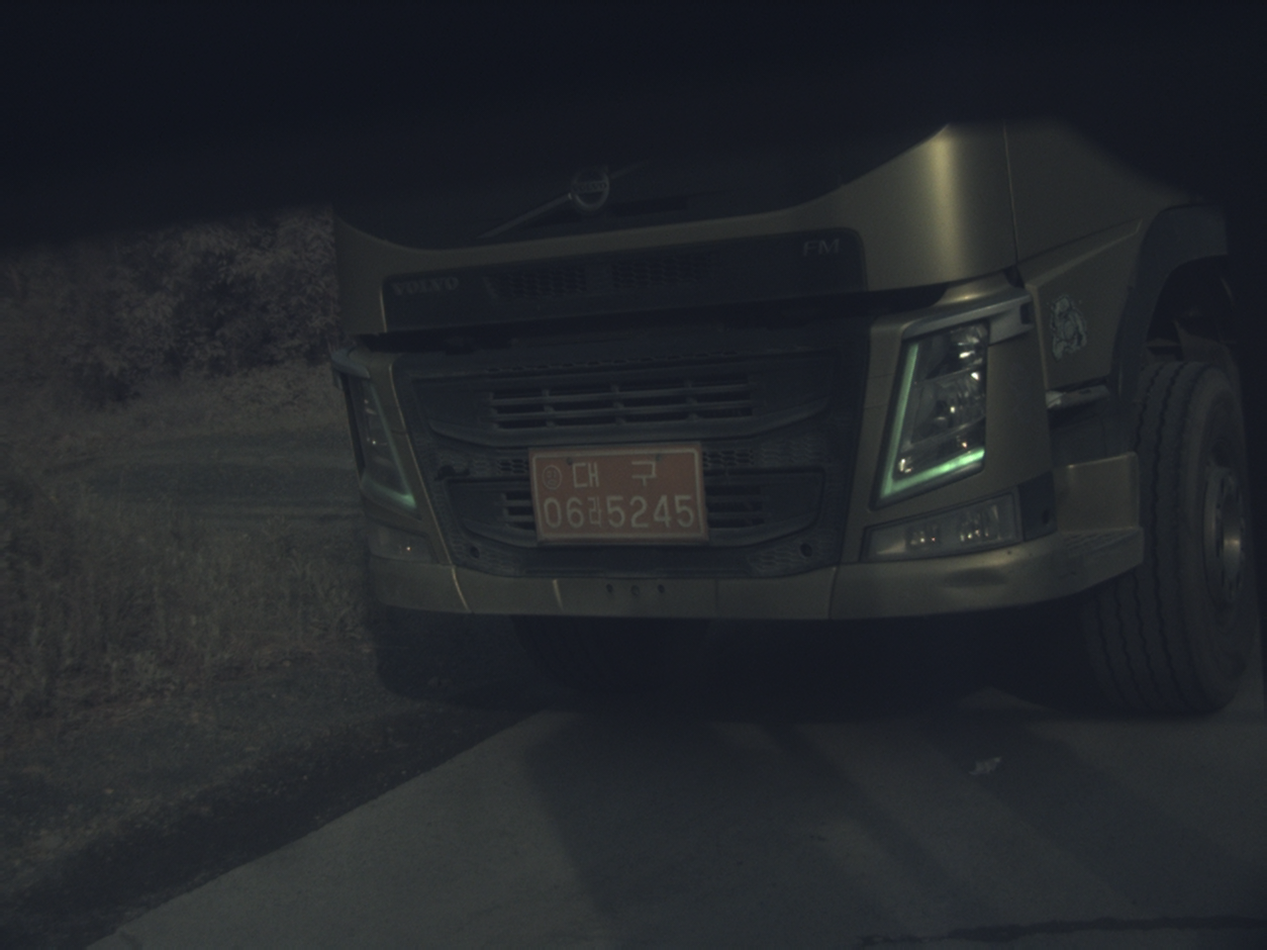license_plate: (530, 445, 705, 542)
truck: (334, 122, 1255, 711)
